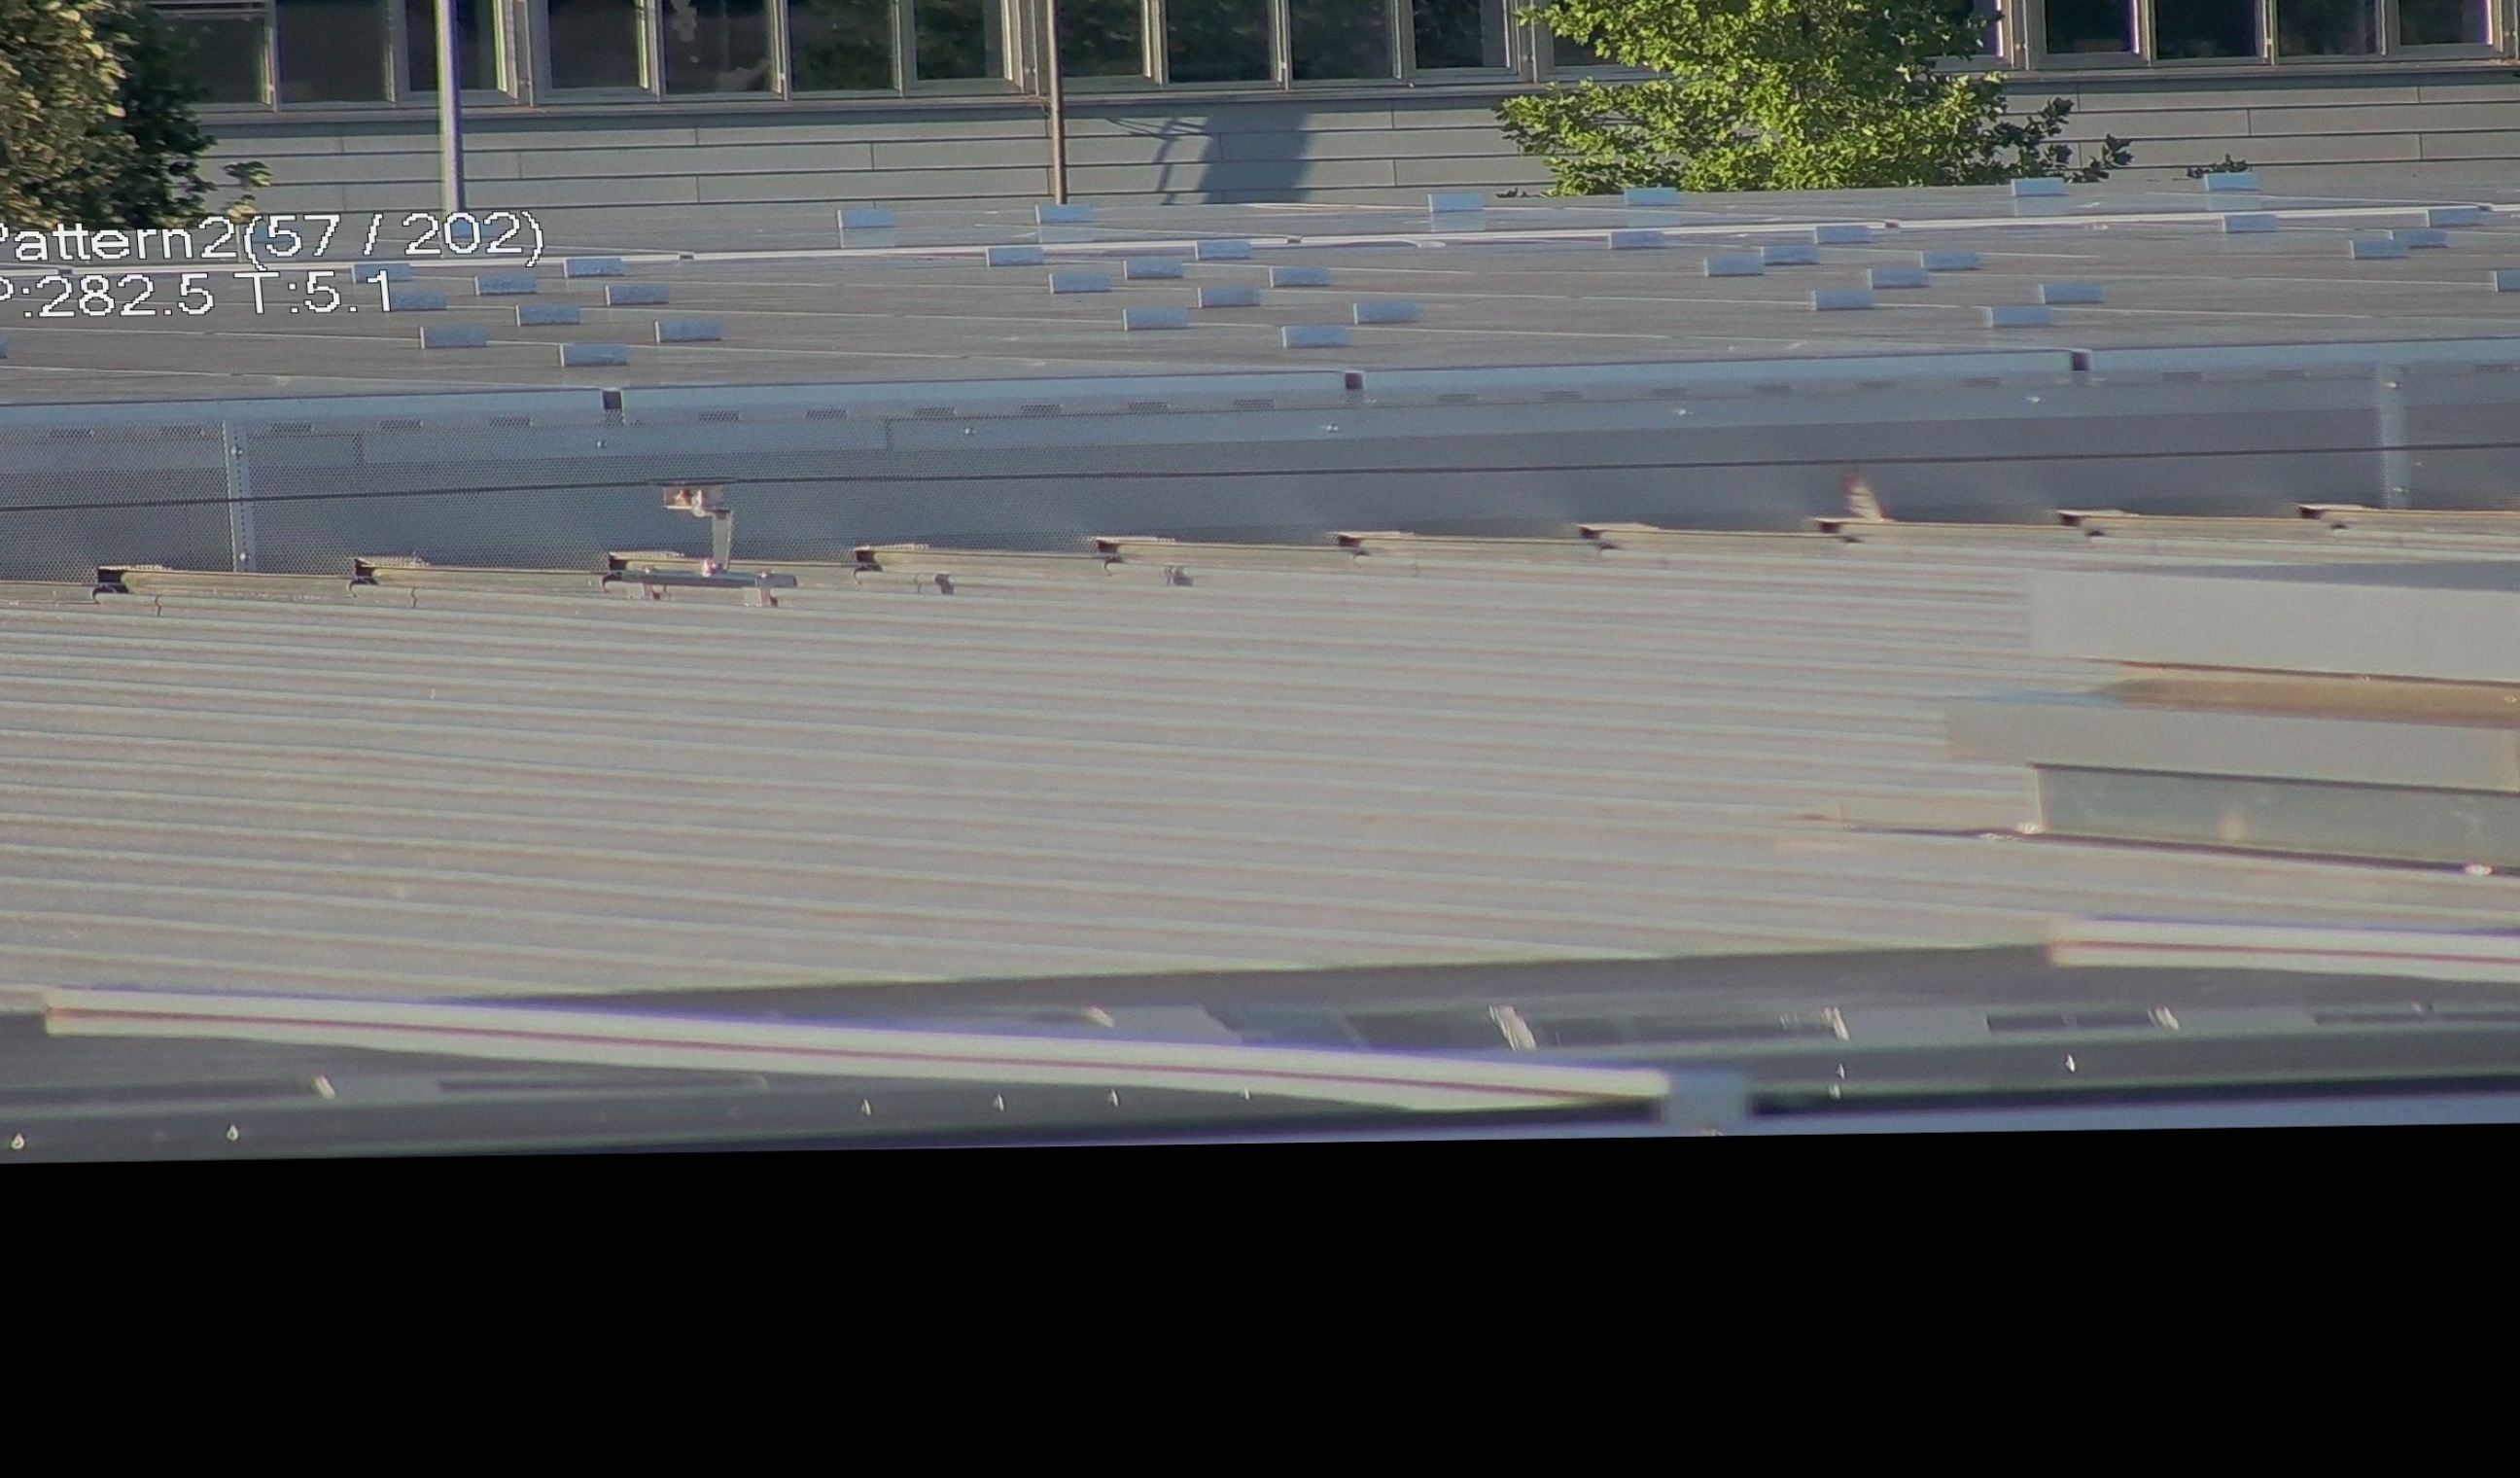Other: (1813, 456, 1912, 551)
